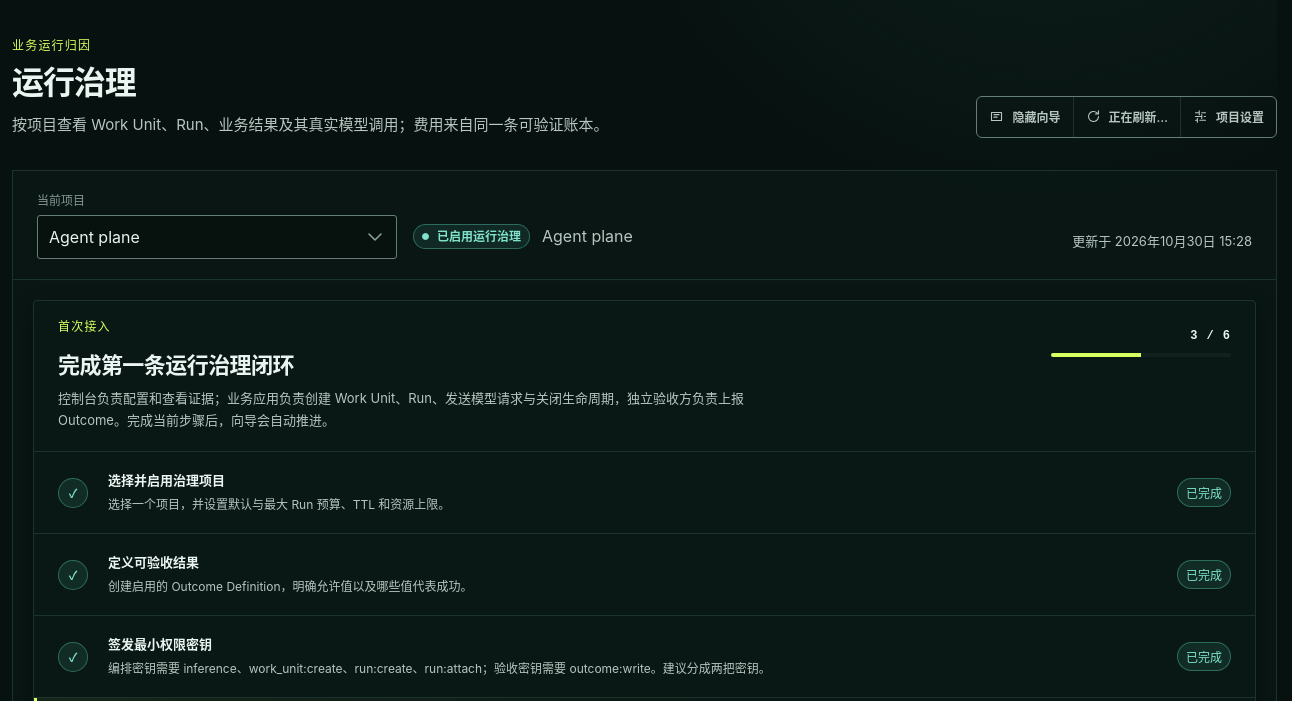
RunGovernancePage › guides the first governed business run with verified progress and executable API examples
This screenshot has width=1292, height=701.
Expected: the heading "完成第一条运行治理闭环" is shown, [58, 352, 294, 378]
Click the button "隐藏向导".
click(1025, 117)  # box [978, 97, 1072, 137]
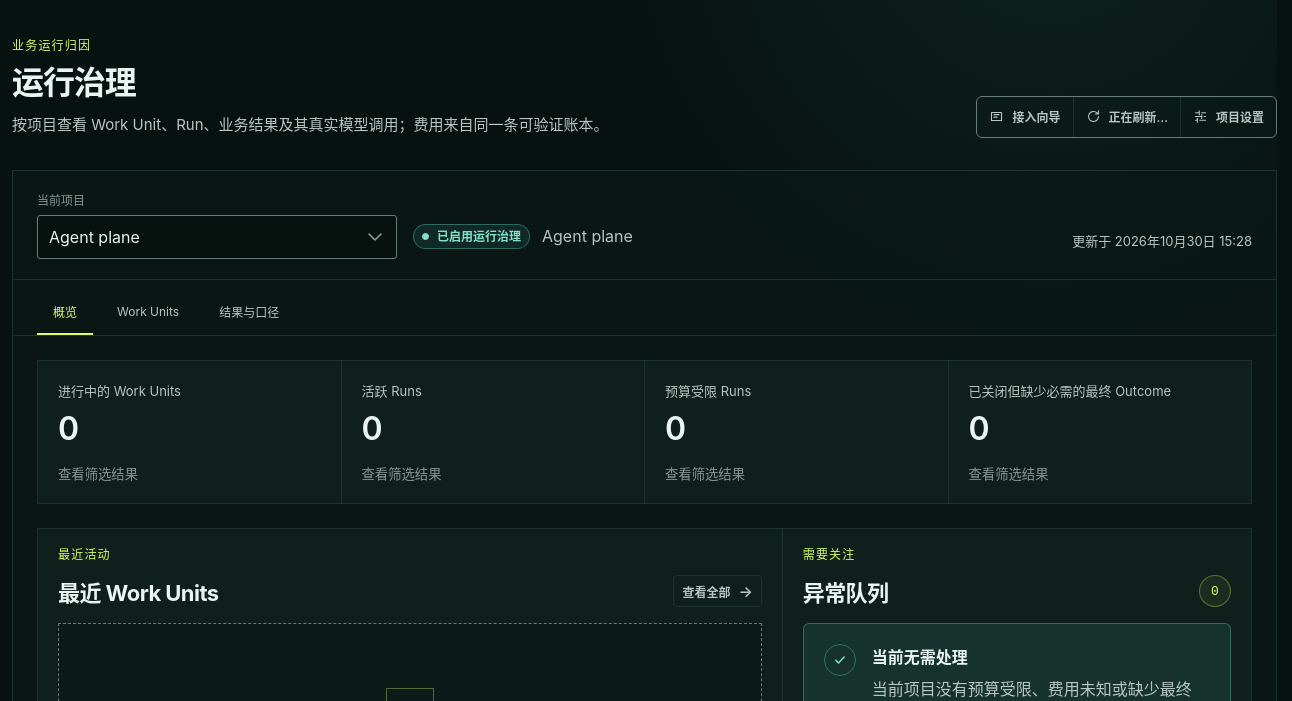
Result: the heading "完成第一条运行治理闭环" is gone
Click the button "接入向导".
click(1025, 117)  # box [978, 97, 1072, 137]
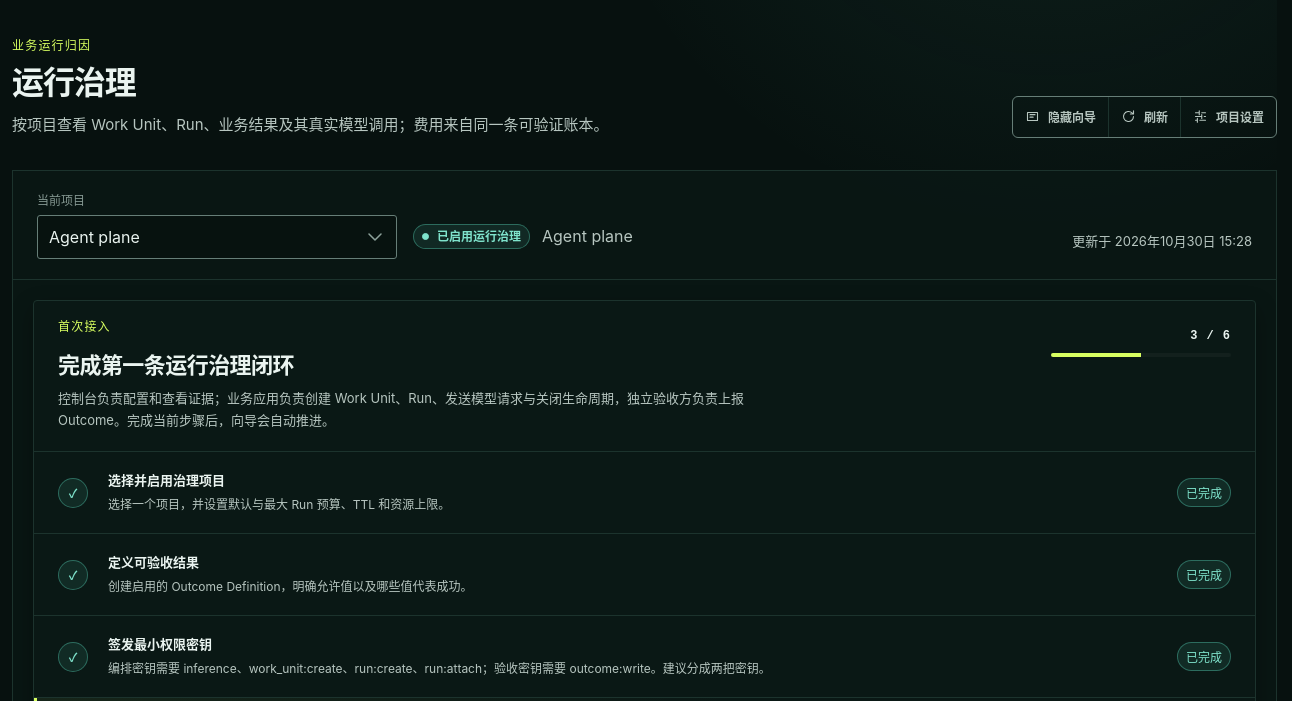
Result: the heading "完成第一条运行治理闭环" is shown at [58, 352, 294, 378]
